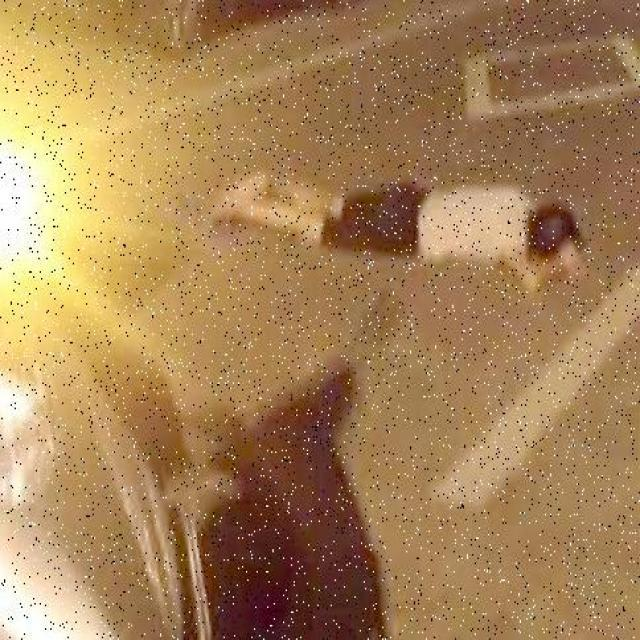fall: (214, 148, 587, 280)
